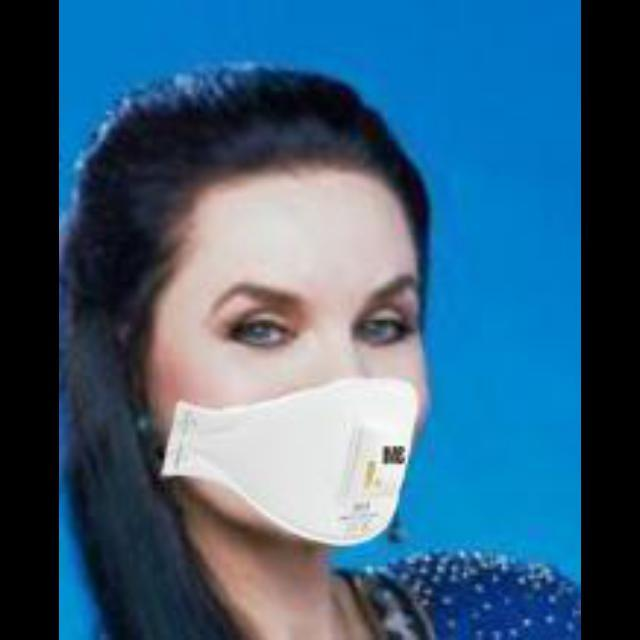suspicion: (125, 100, 421, 542)
